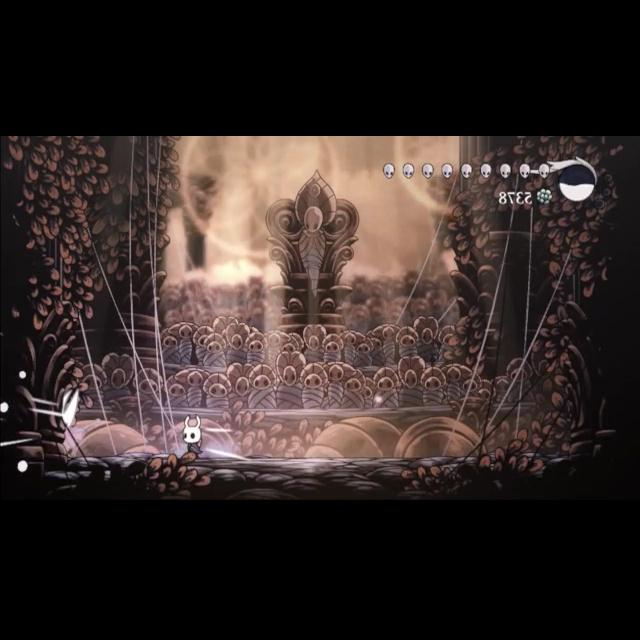EnemyDamaged: (37, 388, 101, 458)
Player: (177, 413, 209, 461)
